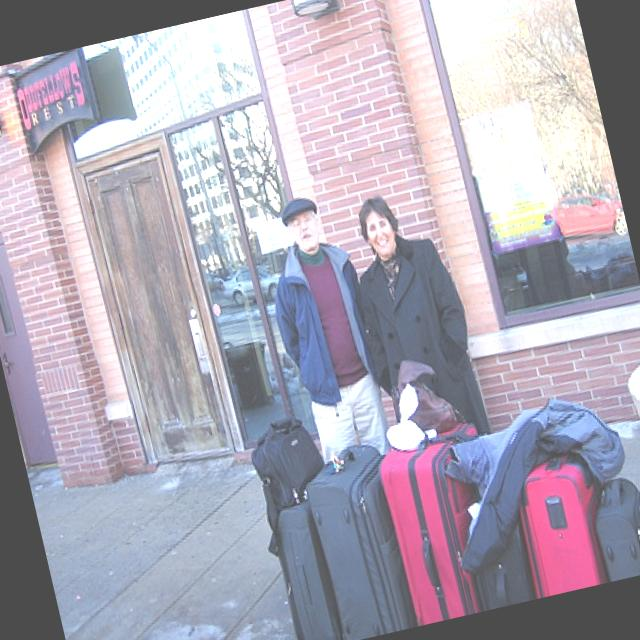Vehicle: (546, 182, 628, 250), (220, 260, 286, 311), (205, 269, 226, 293)
